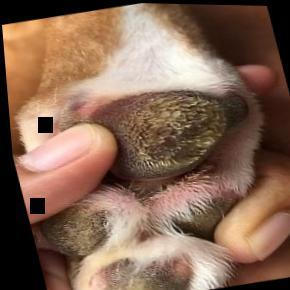keratosis: (105, 74, 259, 182)
